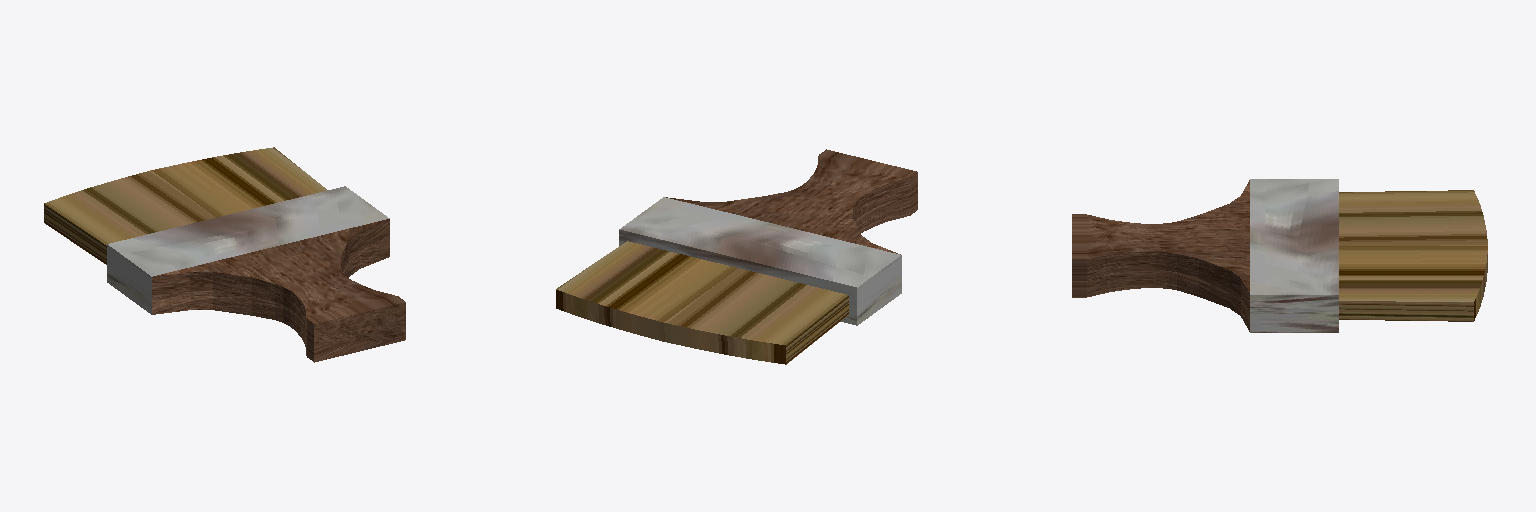
The picture shows the model from 3 angles: view 1: azimuth 30°, elevation 25°; view 2: azimuth 150°, elevation 25°; view 3: azimuth 270°, elevation 25°; orthographic projection.
Parts seen in each view (by area): view 1: Cube.001; view 2: Cube.001; view 3: Cube.001.
Part boxes in pixels (x1,y1,x2,y2): Cube.001: (44, 147, 405, 362); Cube.001: (556, 149, 917, 364); Cube.001: (1072, 179, 1487, 332).
Size of the model in its own units: 1.3 by 0.2 by 1.97.
Materials: 1 (1 with a texture image).